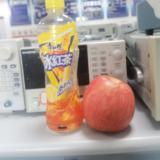apple: (84, 76, 135, 134)
